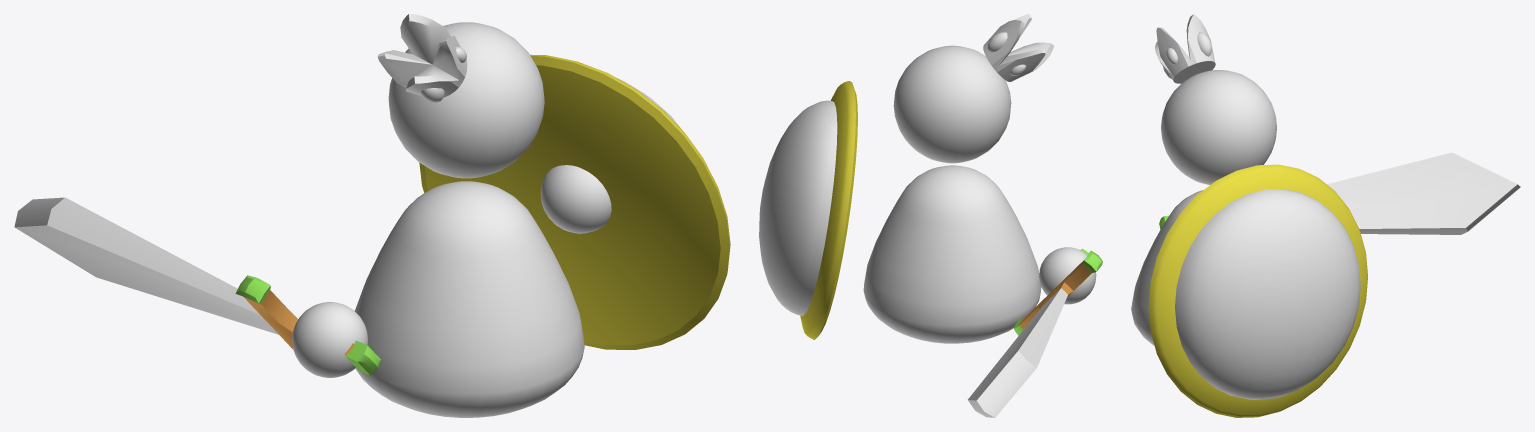
File: Princess.fbx
3 renders of one model, left to right at view 1: azimuth 30°, elevation 25°; view 2: azimuth 150°, elevation 25°; view 3: azimuth 270°, elevation 25°, orthographic. The views are drawn at different scales.
Visible parts, largest first — view 1: Body, Shield, Head, Sword, Crown, HandLeft, HandRight; view 2: Body, Shield, Head, Sword, Crown, HandLeft; view 3: Shield, Sword, Head, Crown, Body.
Boxes of the visible parts, left/top/right/bottom form: Body: left=355, top=181, right=584, bottom=417; Shield: left=419, top=54, right=730, bottom=349; Head: left=388, top=22, right=544, bottom=178; Sword: left=14, top=197, right=380, bottom=375; Crown: left=377, top=14, right=467, bottom=97; HandLeft: left=292, top=302, right=367, bottom=377; HandRight: left=540, top=165, right=611, bottom=233; Body: left=863, top=165, right=1041, bottom=343; Shield: left=759, top=81, right=857, bottom=339; Head: left=893, top=45, right=1011, bottom=163; Sword: left=968, top=248, right=1102, bottom=417; Crown: left=983, top=14, right=1053, bottom=81; HandLeft: left=1039, top=247, right=1096, bottom=304; Shield: left=1148, top=164, right=1367, bottom=417; Sword: left=1159, top=152, right=1520, bottom=234; Head: left=1161, top=70, right=1276, bottom=184; Crown: left=1155, top=14, right=1215, bottom=83; Body: left=1131, top=190, right=1203, bottom=345.
Bounding box in the file's own units: 169 × 137 × 153.
